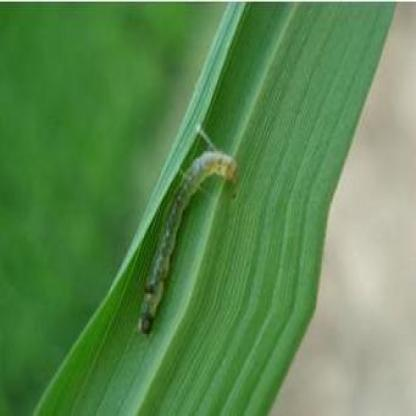leaf-folder: (133, 136, 242, 348)
